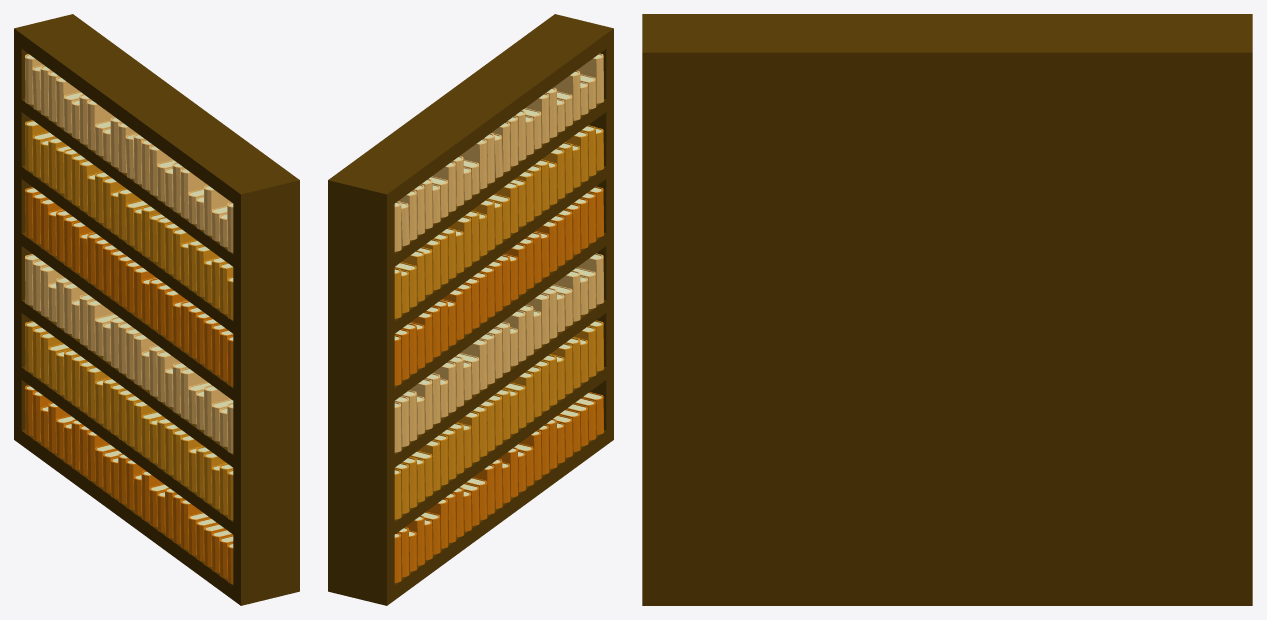
The model's file is bookCase_XL_filled.fbx.
3 views of the same model, side by side, from view 1: azimuth 30°, elevation 25°; view 2: azimuth 150°, elevation 25°; view 3: azimuth 270°, elevation 25° (orthographic). The views are drawn at different scales.
Parts seen in each view (by area): view 1: bookCase_XL_filled; view 2: bookCase_XL_filled; view 3: bookCase_XL_filled.
Part boxes in pixels (x1,y1,x2,y2): bookCase_XL_filled: [14, 14, 299, 605]; bookCase_XL_filled: [328, 14, 613, 605]; bookCase_XL_filled: [642, 14, 1252, 605].
Bounding box in the file's own units: 30.6 × 200 × 200.
